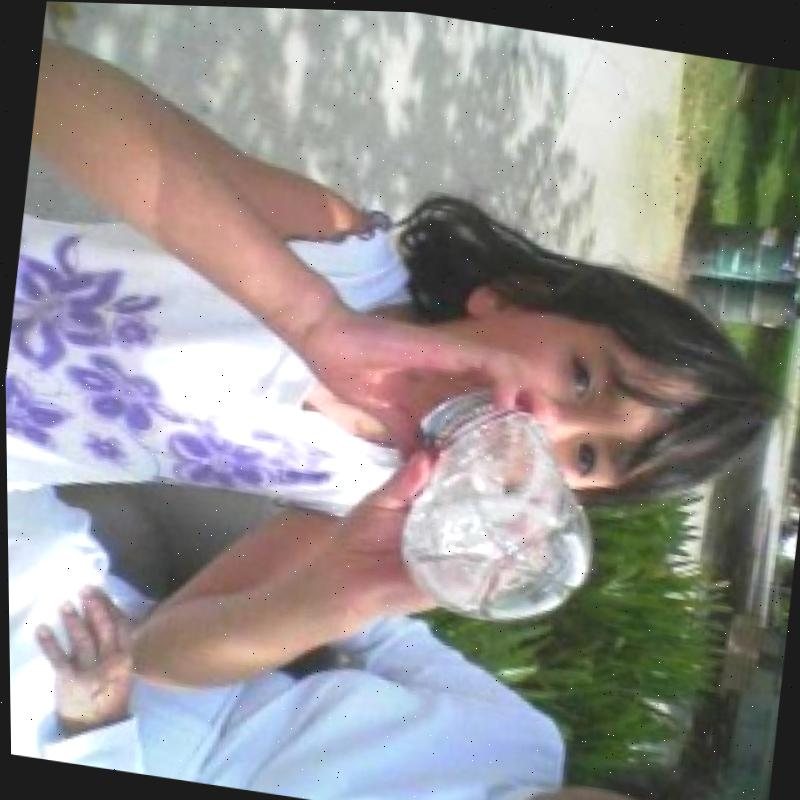botella: (388, 374, 609, 633)
